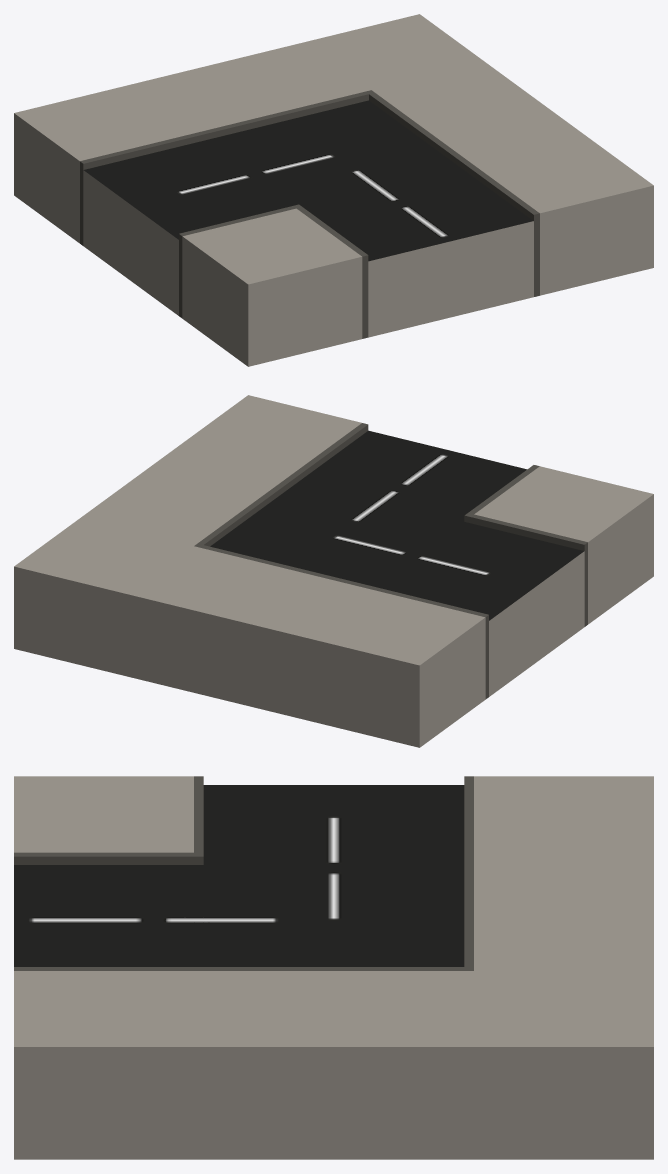
File: Road_Road06.fbx
3 renders of one model, top to bottom at view 1: azimuth 30°, elevation 25°; view 2: azimuth 150°, elevation 25°; view 3: azimuth 270°, elevation 25°, orthographic. The views are drawn at different scales.
Visible parts, largest first — view 1: Road_Road06; view 2: Road_Road06; view 3: Road_Road06.
Boxes of the visible parts, x1,y1,x2,y2 form: Road_Road06: (14,14,653,366); Road_Road06: (14,395,653,747); Road_Road06: (14,776,653,1159).
Size of the model in its own units: 1696 by 329 by 1696.
